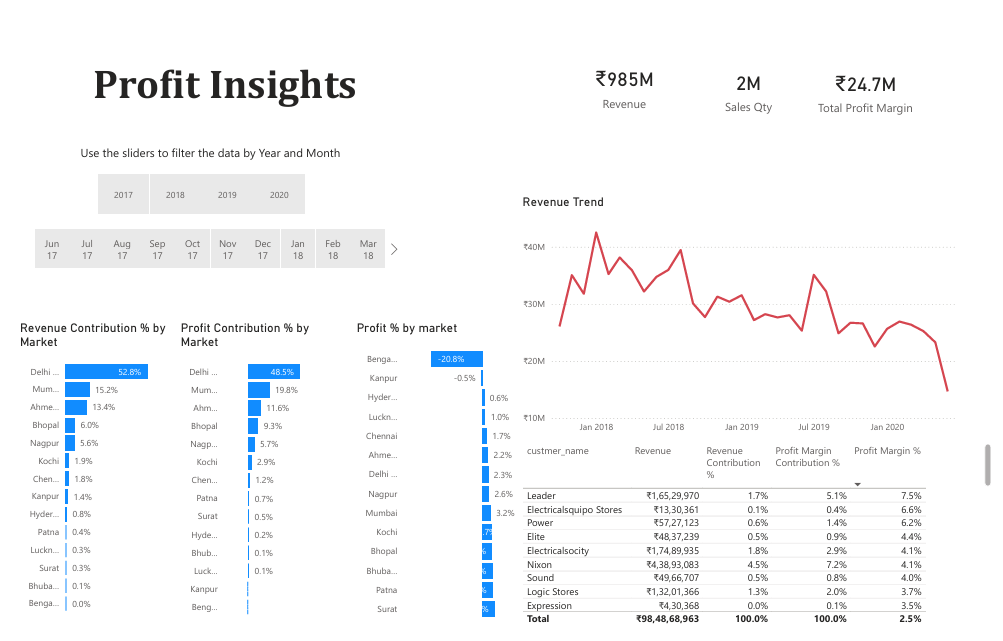

What the dashboard file says about the page in this screenshot:
{"tool":"powerbi","page":{"name":"Profit Analysis","canvas":[1350,850],"ordinal":3},"visuals":[{"type":"card","fields":{"Values":["BaseMeasures (2).Revenue"]},"box":[749.6,8.5,179.6,184.8],"z":0},{"type":"card","fields":{"Values":["BaseMeasures (2).Sales Qty"]},"box":[929.2,8.5,164.1,193],"z":1000},{"type":"barChart","title":"Profit % by market","fields":{"Y":["BaseMeasures (2).Profit Margin %"],"Category":["sales markets.markets_name"]},"box":[464.5,424.5,229.6,424.5],"z":2000},{"type":"barChart","title":"Profit Contribution % by Market","fields":{"Y":["BaseMeasures (2).Profit Margin Contribution %"],"Category":["sales markets.markets_name"]},"box":[221.6,424.5,208.2,420.5],"z":3000},{"type":"slicer","fields":{"Values":["sales date.year"]},"box":[86.8,216.2,335,66.7],"z":4000},{"type":"slicer","fields":{"Values":["sales date.cy_date"]},"box":[0,291,532.6,66.7],"z":5000},{"type":"tableEx","title":"Top 5 Customers","fields":{"Values":["sales customers.custmer_name","BaseMeasures (2).Revenue","BaseMeasures (2).Revenue Contribution %","BaseMeasures (2).Profit Margin Contribution %","BaseMeasures (2).Profit Margin %"]},"box":[694.1,588.6,656.7,260.3],"z":6000},{"type":"lineChart","title":"Revenue Trend","fields":{"Y":["BaseMeasures (2).Revenue"],"Category":["sales date.cy_date"]},"box":[694.1,249.6,620.7,339],"z":7000},{"type":"card","fields":{"Values":["BaseMeasures (2).Total Profit Margin"]},"box":[1092.6,18.3,159.8,177.3],"z":8000},{"type":"barChart","title":"Revenue Contribution % by Market","fields":{"Y":["BaseMeasures (2).Revenue Contribution %"],"Category":["sales markets.markets_name"]},"box":[0,424.5,220.2,415.1],"z":9000},{"type":"textbox","box":[17.4,58.7,541.9,76.1],"z":9001},{"type":"textbox","box":[46.7,176.2,441.8,38.7],"z":9002}]}

Visuals, with their boxes in screenshot pixels (x1, y1, x2, y2), scaled from the page's 1350x850 canvas onto the 1003x641 screenshot:
card - BaseMeasures (2).Revenue: 557, 6, 690, 146
card - BaseMeasures (2).Sales Qty: 690, 6, 812, 152
"Profit % by market" barChart: 345, 320, 516, 640
"Profit Contribution % by Market" barChart: 165, 320, 319, 637
slicer - sales date.year: 64, 163, 313, 213
slicer - sales date.cy_date: 0, 219, 396, 270
"Top 5 Customers" tableEx: 516, 444, 1002, 640
"Revenue Trend" lineChart: 516, 188, 977, 444
card - BaseMeasures (2).Total Profit Margin: 812, 14, 930, 148
"Revenue Contribution % by Market" barChart: 0, 320, 164, 633
textbox: 13, 44, 416, 102
textbox: 35, 133, 363, 162
